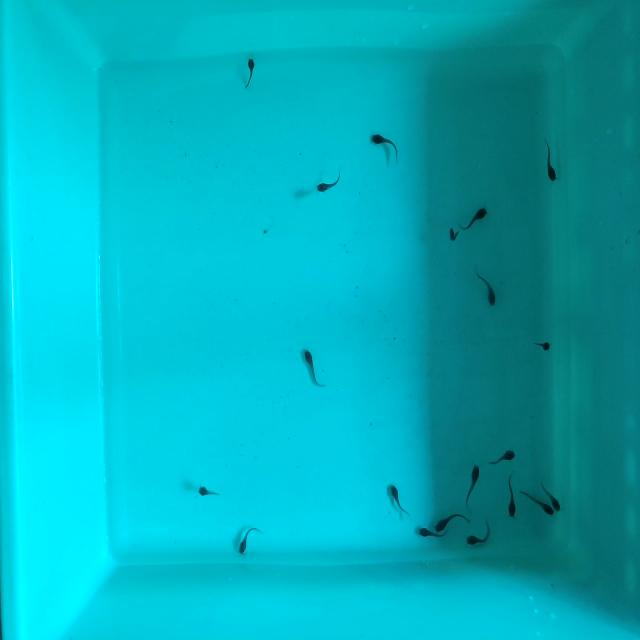lele: (518, 483, 556, 519), (369, 129, 402, 166), (300, 345, 327, 389), (458, 200, 492, 233), (233, 518, 260, 559), (539, 139, 563, 183), (472, 267, 499, 306), (387, 481, 413, 519), (538, 479, 564, 515), (313, 168, 346, 196), (434, 509, 468, 533), (464, 463, 482, 508), (488, 446, 517, 468), (465, 531, 493, 547), (193, 483, 221, 499), (507, 475, 517, 518), (244, 57, 256, 91), (417, 526, 450, 538), (533, 339, 552, 353), (447, 223, 460, 243)
